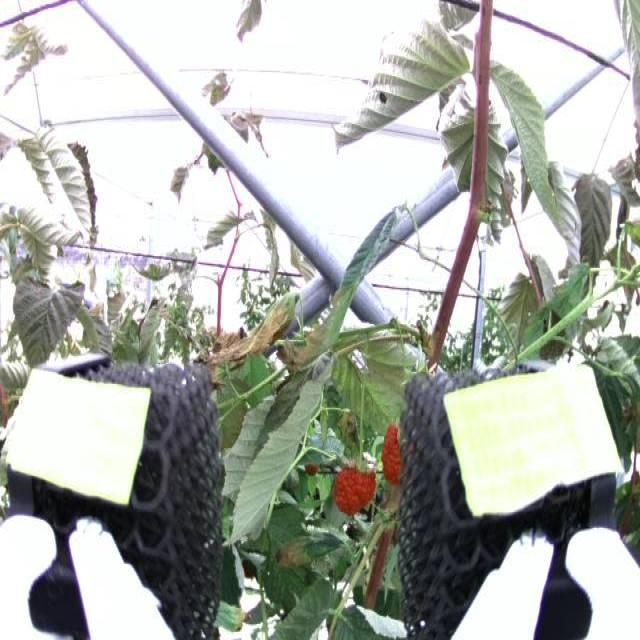Riped berries: (334, 451, 375, 517), (378, 420, 400, 486)
